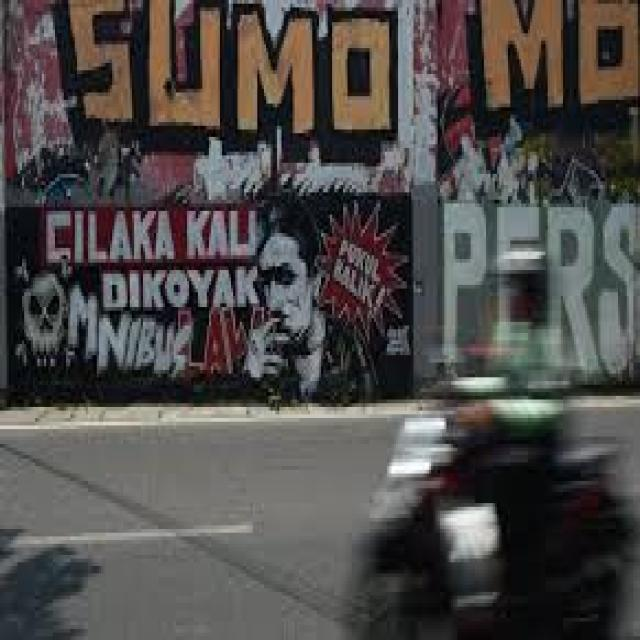-: (13, 204, 409, 396), (53, 0, 398, 171), (442, 202, 640, 372), (467, 0, 640, 145)
